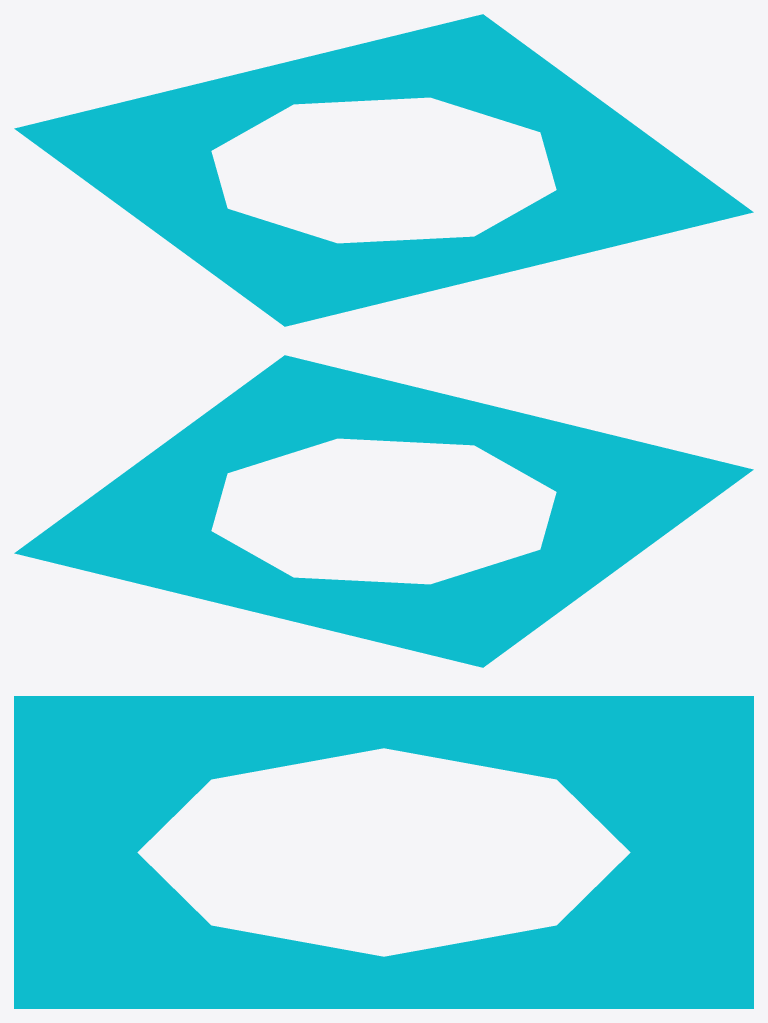
File: level-navmesh.glb
3 views of the same model, one above another, from view 1: azimuth 30°, elevation 25°; view 2: azimuth 150°, elevation 25°; view 3: azimuth 270°, elevation 25° (orthographic). The views are drawn at different scales.
Parts seen in each view (by area): view 1: NavMesh; view 2: NavMesh; view 3: NavMesh.
Part boxes in pixels (x1,y1,x2,y2): NavMesh: (14,14,753,326); NavMesh: (14,355,753,667); NavMesh: (14,696,753,1008).
Bounding box in the file's own units: 9 × 0 × 9.
